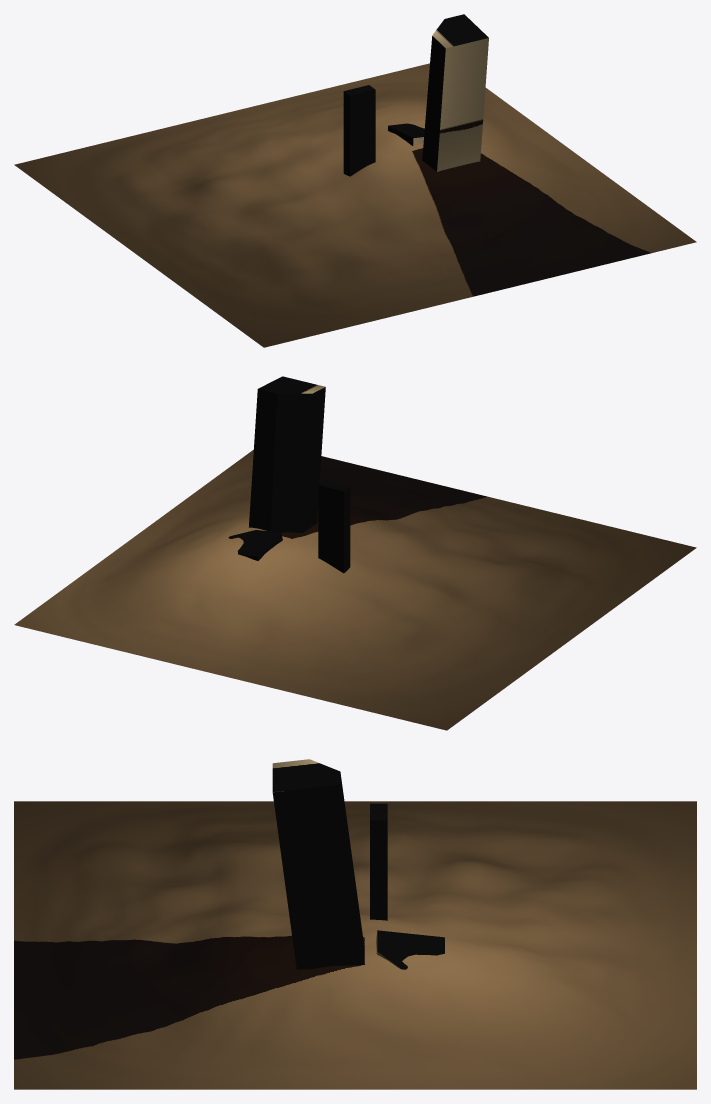
Rendered from landscape3.dae.
3 renders of one model, top to bottom at view 1: azimuth 30°, elevation 25°; view 2: azimuth 150°, elevation 25°; view 3: azimuth 270°, elevation 25°, orthographic. The views are drawn at different scales.
Parts seen in each view (by area): view 1: Landscape, Tower; view 2: Landscape, Tower; view 3: Landscape, Tower.
Boxes of the visible parts, left/top/right/bottom form: Landscape: left=14, top=63, right=696, bottom=347; Tower: left=343, top=14, right=488, bottom=176; Landscape: left=14, top=449, right=696, bottom=730; Tower: left=228, top=376, right=350, bottom=573; Landscape: left=14, top=801, right=696, bottom=1089; Tower: left=272, top=759, right=444, bottom=969.
Bounding box in the file's own units: 20 × 20 × 7.97.
2 materials, 2 textured.
